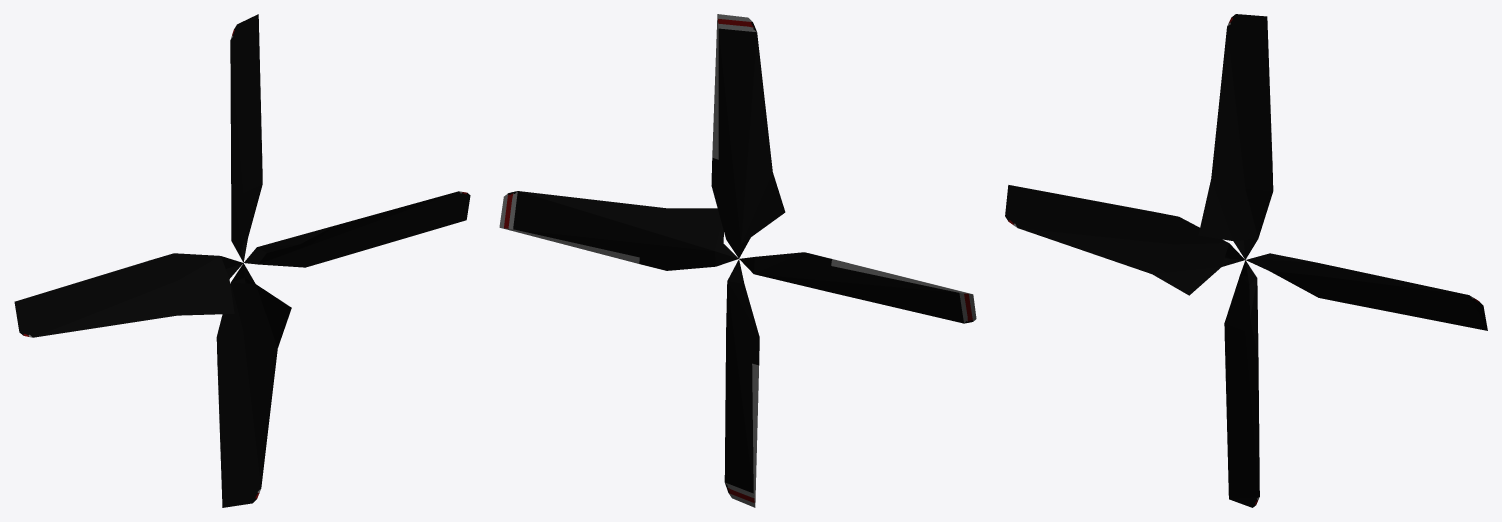
Rendered from Prop_E2CNP.obj.
The picture shows the model from 3 angles, left to right: view 1: azimuth 30°, elevation 25°; view 2: azimuth 150°, elevation 25°; view 3: azimuth 330°, elevation 25°; orthographic projection.
Visible parts, largest first — view 1: ShapeIndexedFaceSet.133_ShapeIndexedFaceSet.134, ShapeIndexedFaceSet.136_ShapeIndexedFaceSet.137, ShapeIndexedFaceSet.139_ShapeIndexedFaceSet.140, ShapeIndexedFaceSet.130_ShapeIndexedFaceSet.131; view 2: ShapeIndexedFaceSet.139_ShapeIndexedFaceSet.140, ShapeIndexedFaceSet.130_ShapeIndexedFaceSet.131, ShapeIndexedFaceSet.133_ShapeIndexedFaceSet.134, ShapeIndexedFaceSet.136_ShapeIndexedFaceSet.137, ShapeIndexedFaceSet.131_ShapeIndexedFaceSet.132, ShapeIndexedFaceSet.140_ShapeIndexedFaceSet.141, ShapeIndexedFaceSet.134_ShapeIndexedFaceSet.135, ShapeIndexedFaceSet.137_ShapeIndexedFaceSet.138; view 3: ShapeIndexedFaceSet.130_ShapeIndexedFaceSet.131, ShapeIndexedFaceSet.133_ShapeIndexedFaceSet.134, ShapeIndexedFaceSet.136_ShapeIndexedFaceSet.137, ShapeIndexedFaceSet.139_ShapeIndexedFaceSet.140.
Part boxes in pixels (x1,y1,x2,y2): ShapeIndexedFaceSet.133_ShapeIndexedFaceSet.134: [14, 253, 243, 337]; ShapeIndexedFaceSet.136_ShapeIndexedFaceSet.137: [216, 263, 291, 507]; ShapeIndexedFaceSet.139_ShapeIndexedFaceSet.140: [244, 191, 470, 267]; ShapeIndexedFaceSet.130_ShapeIndexedFaceSet.131: [230, 14, 262, 262]; ShapeIndexedFaceSet.139_ShapeIndexedFaceSet.140: [508, 191, 738, 270]; ShapeIndexedFaceSet.130_ShapeIndexedFaceSet.131: [711, 22, 785, 258]; ShapeIndexedFaceSet.133_ShapeIndexedFaceSet.134: [739, 252, 972, 323]; ShapeIndexedFaceSet.136_ShapeIndexedFaceSet.137: [724, 259, 759, 493]; ShapeIndexedFaceSet.131_ShapeIndexedFaceSet.132: [712, 14, 756, 159]; ShapeIndexedFaceSet.140_ShapeIndexedFaceSet.141: [499, 191, 639, 263]; ShapeIndexedFaceSet.134_ShapeIndexedFaceSet.135: [831, 259, 976, 323]; ShapeIndexedFaceSet.137_ShapeIndexedFaceSet.138: [725, 363, 758, 507]; ShapeIndexedFaceSet.130_ShapeIndexedFaceSet.131: [1198, 14, 1273, 259]; ShapeIndexedFaceSet.133_ShapeIndexedFaceSet.134: [1005, 185, 1244, 295]; ShapeIndexedFaceSet.136_ShapeIndexedFaceSet.137: [1224, 260, 1259, 507]; ShapeIndexedFaceSet.139_ShapeIndexedFaceSet.140: [1246, 253, 1487, 330].
Size of the model in its own units: 41.17 by 41.2 by 4.79.
